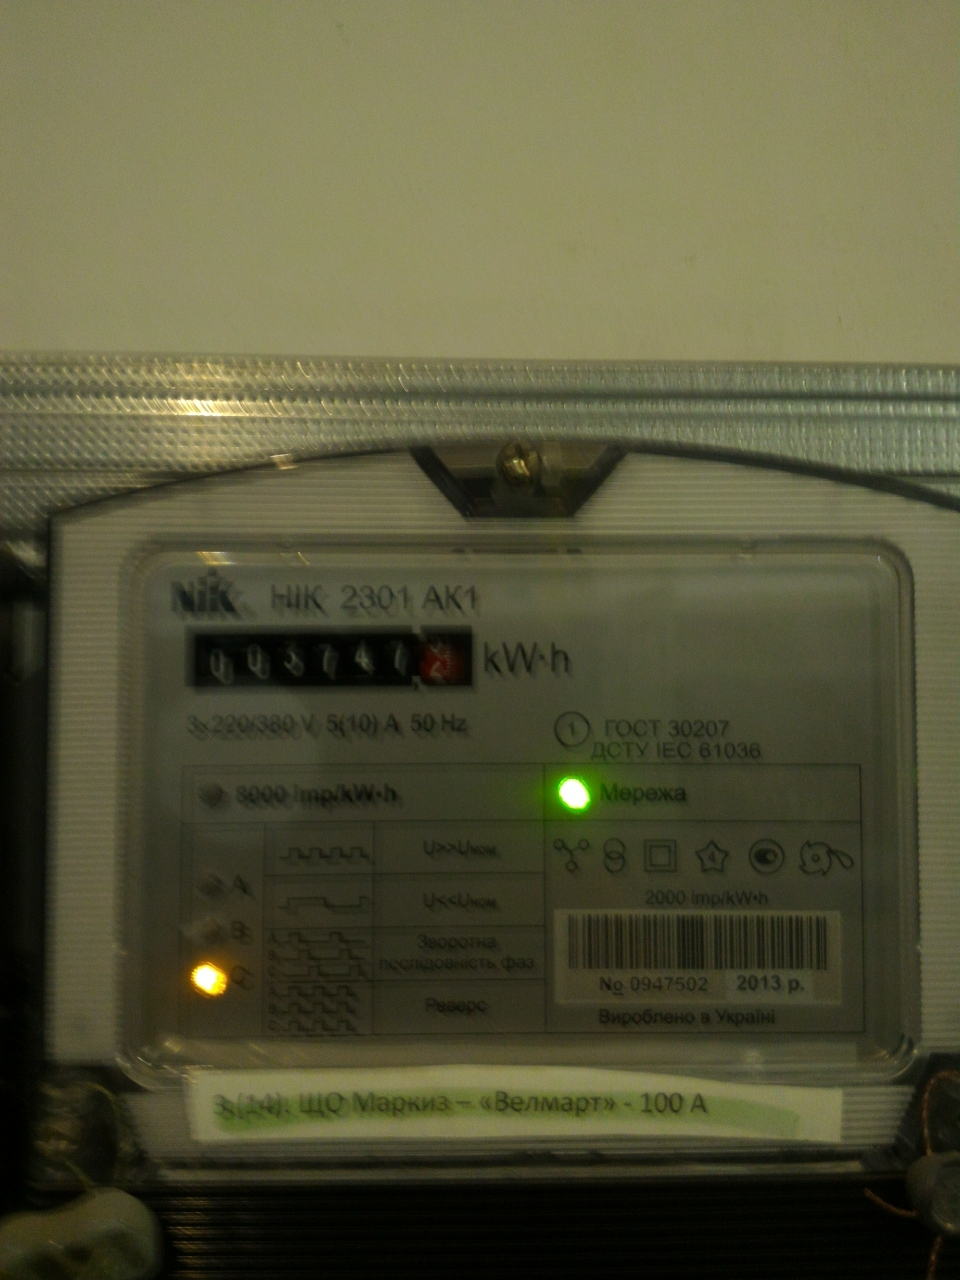0: (245, 641, 264, 674), (209, 647, 226, 677)
3: (281, 638, 299, 671)
4: (350, 639, 372, 673)
6: (426, 659, 443, 681)
7: (387, 638, 406, 671), (316, 641, 334, 675)
screen: (168, 609, 490, 708)
x: (426, 632, 445, 655)
